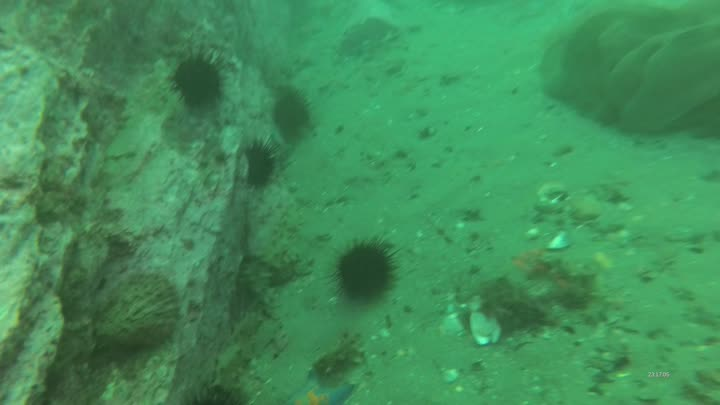echinus: (330, 237, 400, 304), (169, 51, 224, 108), (270, 92, 313, 139), (240, 138, 282, 185), (168, 385, 249, 405)
holothurian: (215, 315, 265, 394), (242, 255, 303, 312), (255, 213, 299, 267), (314, 335, 370, 372)
scallop: (95, 272, 182, 350)
starfish: (281, 367, 355, 405)
